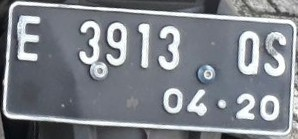plate: (7, 1, 294, 139)
